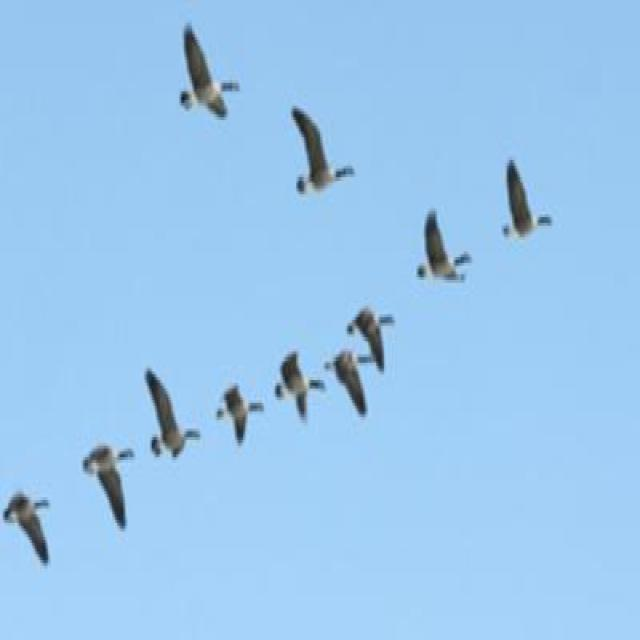birds: (172, 10, 241, 128), (284, 96, 356, 199), (141, 364, 203, 468), (74, 433, 135, 534), (6, 472, 58, 574), (410, 200, 471, 286), (268, 341, 326, 426), (500, 159, 553, 243), (325, 341, 374, 431), (344, 296, 399, 376), (216, 370, 264, 450)
